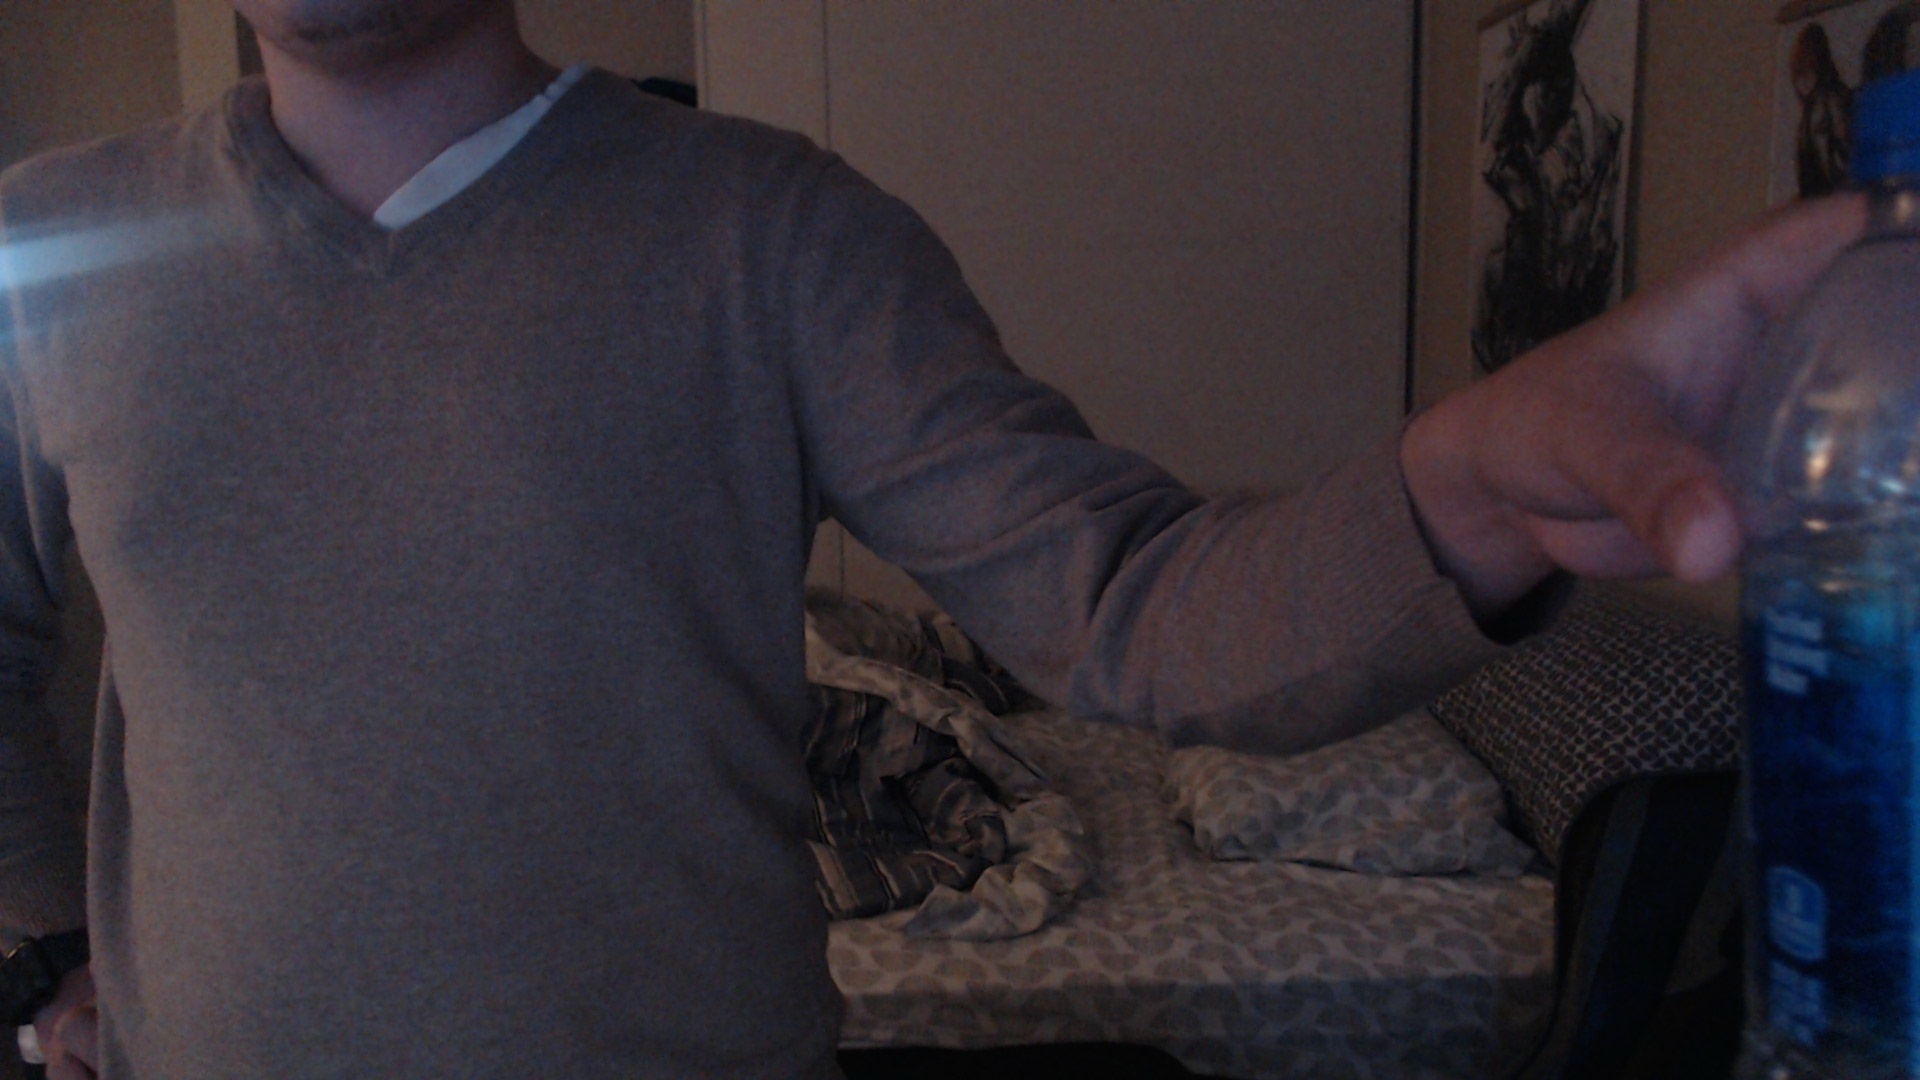bottle: (1706, 80, 1920, 1080)
